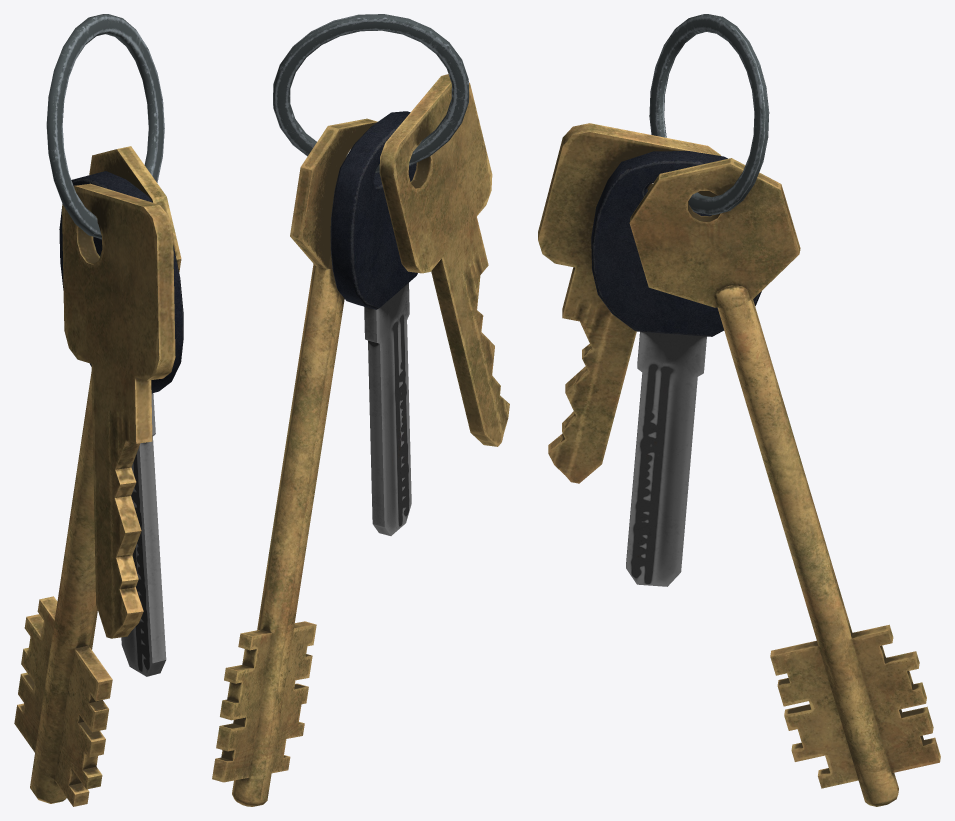
Rendered from door_keys.glb.
3 views of the same model, side by side, from view 1: azimuth 30°, elevation 25°; view 2: azimuth 150°, elevation 25°; view 3: azimuth 270°, elevation 25° (orthographic). The views are drawn at different scales.
Visible parts, largest first — view 1: g (×4); view 2: g (×4); view 3: g (×4).
Part boxes in pixels (left/top/right/bottom): g (×4): left=14, top=14, right=183, bottom=806; g (×4): left=212, top=14, right=509, bottom=806; g (×4): left=538, top=14, right=940, bottom=806.
Size of the model in its own units: 0.4137 by 2 by 0.9603.
Materials: 4 (4 with a texture image).
